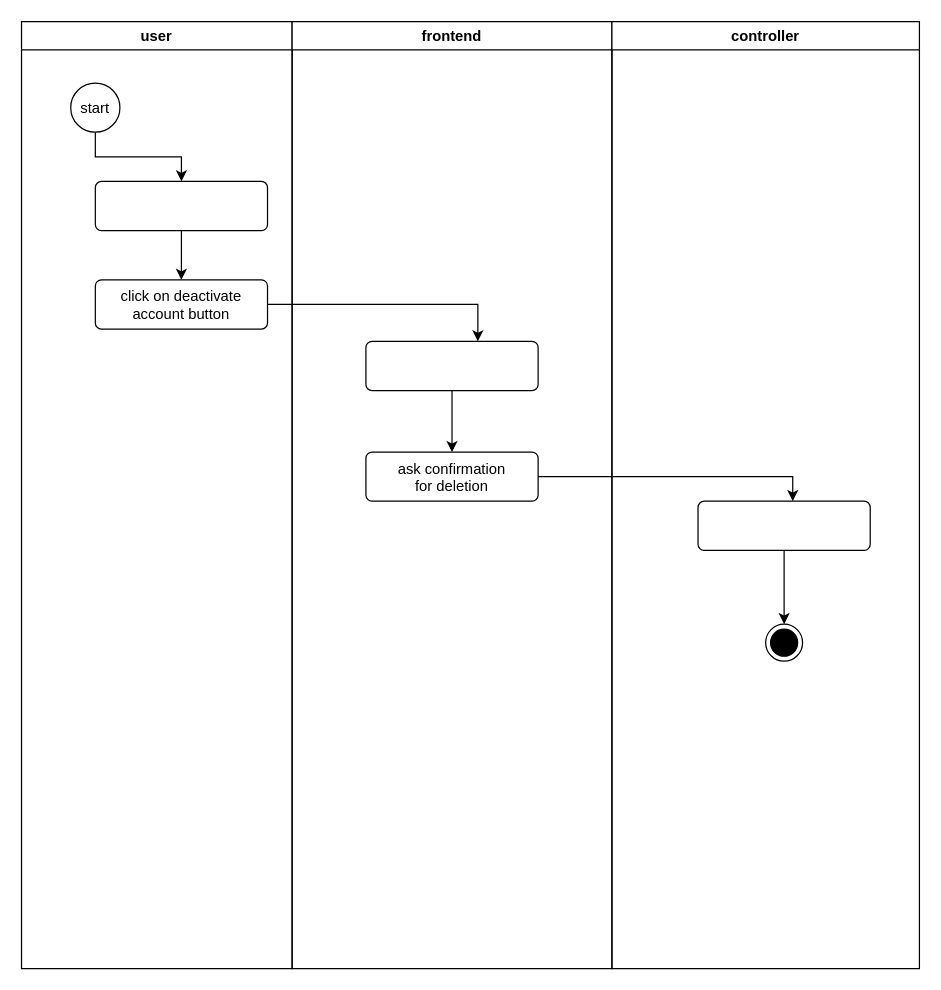
Some shapes in this 941 by 990 pixel diagram are drawn without their labels. The shapes that lost their labels are listed below. From the top down, each one's centre as x and y in pixels, then its label:
[181,205]: visit account setting
[451,365]: ask for reason of deactivation
[783,525]: put account in deactivation mode
